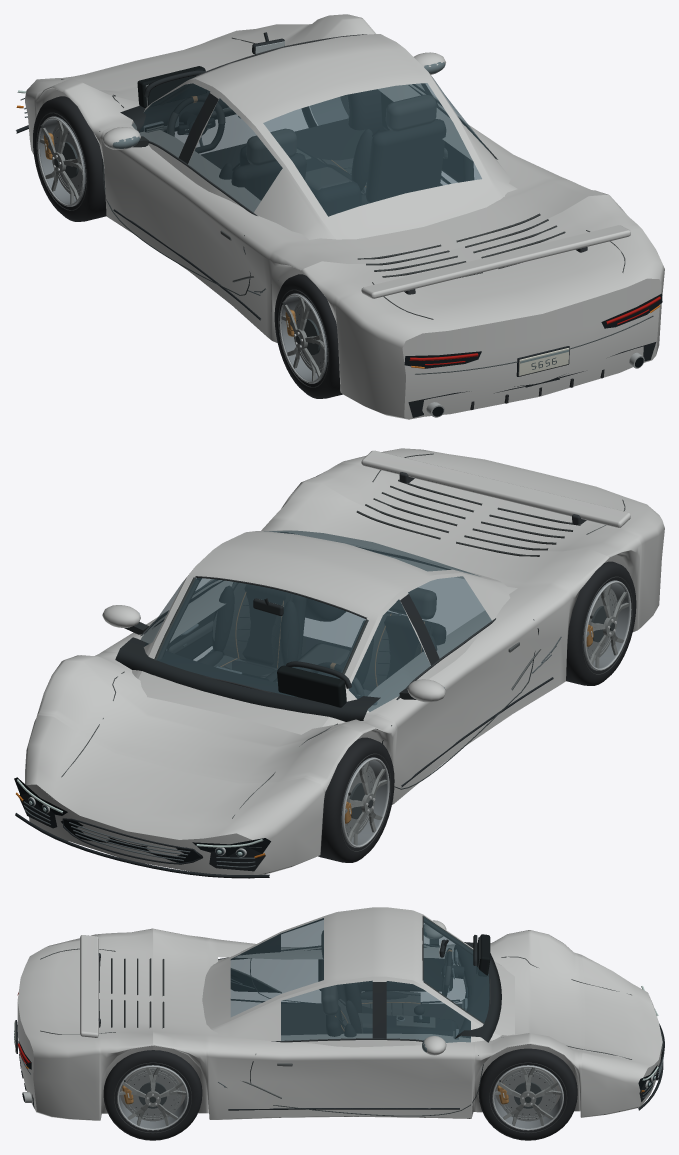
Rendered from valente-v10.glb.
The picture shows the model from 3 angles, top to bottom: view 1: azimuth 30°, elevation 25°; view 2: azimuth 150°, elevation 25°; view 3: azimuth 270°, elevation 25°; orthographic projection. The views are drawn at different scales.
Parts seen in each view (by area): view 1: paint, glass, wheelSurface (×3), SeatUpholstery, trim, CabinMouldings, CabinLeather, SteeringLeather, brake; view 2: paint, glass, wheelSurface (×2), trim, SeatUpholstery, CabinMouldings, CabinLeather; view 3: paint, glass, wheelSurface (×2), trim, CabinMouldings, SeatUpholstery, CabinLeather, CockpitHardware.
Boxes of the visible parts, x1,y1,x2,y2 form: paint: (25,14,664,419); glass: (112,62,488,216); wheelSurface (×3): (33,89,386,398); SeatUpholstery: (219,95,445,205); trim: (16,34,662,417); CabinMouldings: (120,32,442,216); CabinLeather: (164,92,473,189); SteeringLeather: (167,96,225,153); brake: (409,296,660,365); paint: (25,448,664,878); glass: (139,530,491,711); wheelSurface (×2): (318,561,636,862); trim: (14,453,625,878); SeatUpholstery: (197,582,445,695); CabinMouldings: (115,598,380,721); CabinLeather: (167,612,349,664); paint: (17,907,662,1120); glass: (230,917,489,1052); wheelSurface (×2): (103,1048,577,1140); trim: (14,915,664,1116); CabinMouldings: (281,934,501,1042); SeatUpholstery: (321,930,420,1036); CabinLeather: (318,958,466,1036); CockpitHardware: (396,936,480,1039).
Size of the model in its own units: 2.13 by 1.16 by 4.55.
